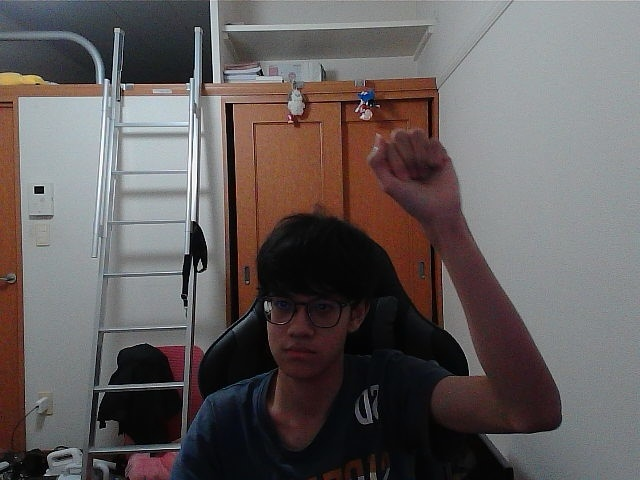closed_palm: (375, 134, 438, 205)
